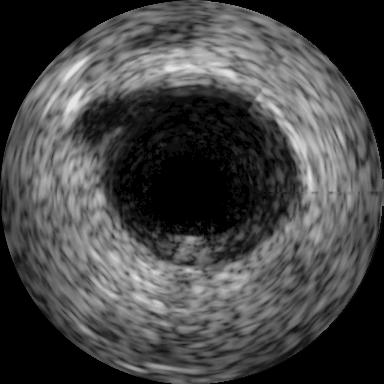Lumen: (153, 151, 232, 230)
